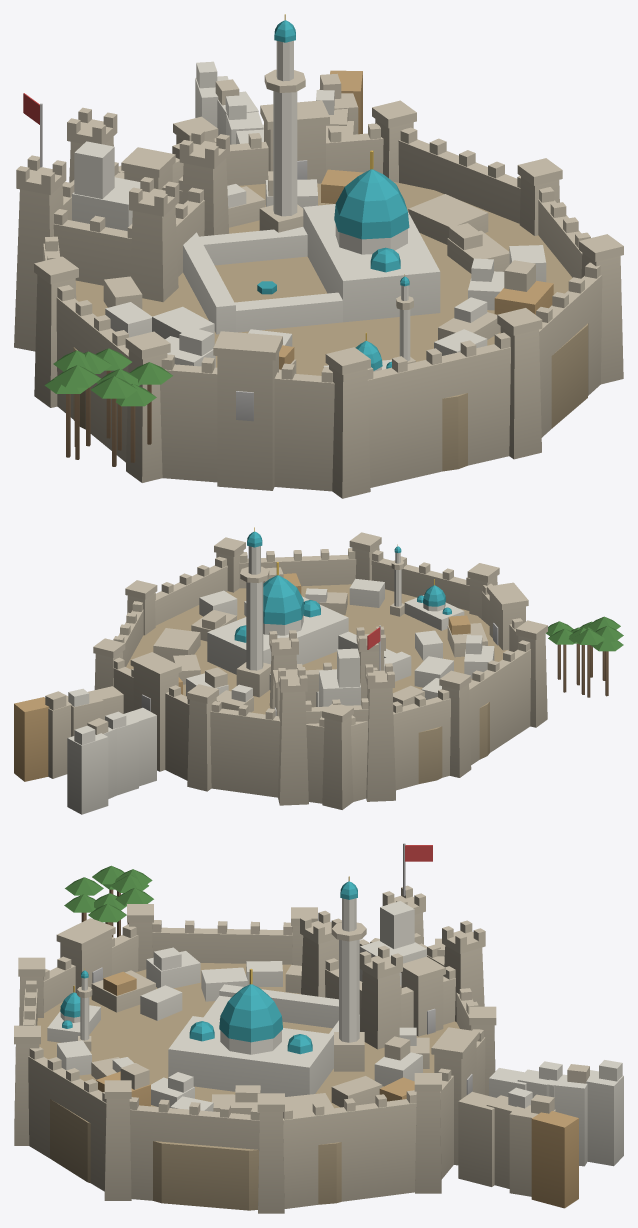
Rendered from city_isl_b.glb.
3 views of the same model, one above another, from view 1: azimuth 30°, elevation 25°; view 2: azimuth 150°, elevation 25°; view 3: azimuth 270°, elevation 25° (orthographic). The views are drawn at different scales.
Visible parts, largest first — view 1: city_isl_b; view 2: city_isl_b; view 3: city_isl_b.
Part boxes in pixels (x1=…): city_isl_b: x1=14, y1=14, x2=623, y2=498; city_isl_b: x1=14, y1=527, x2=623, y2=814; city_isl_b: x1=14, y1=843, x2=623, y2=1213.
Bounding box in the file's own units: 3.17 × 1.54 × 3.42.
